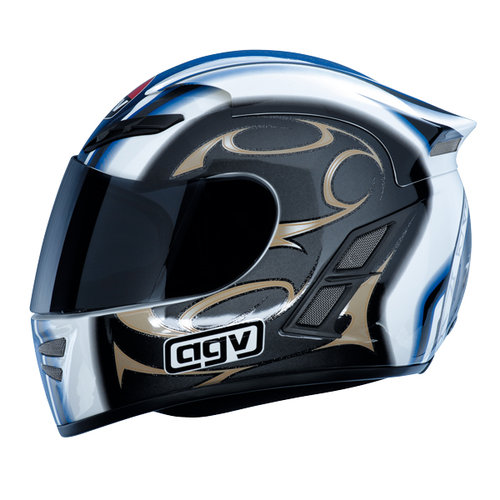helmet: (54, 62, 462, 397)
